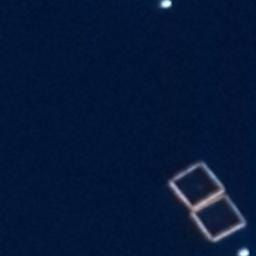square_solid: (184, 187, 250, 245), (163, 156, 228, 213)
